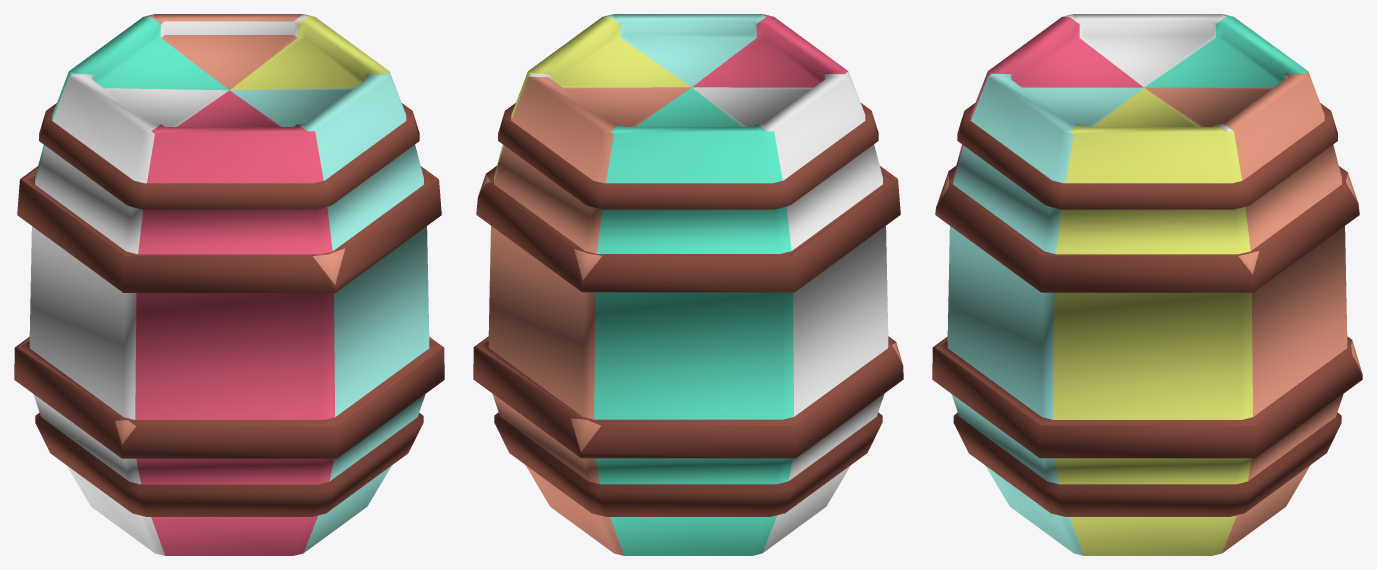
The model's file is barrel marshmallow 1combi.fbx.
The picture shows the model from 3 angles, left to right: view 1: azimuth 30°, elevation 25°; view 2: azimuth 150°, elevation 25°; view 3: azimuth 270°, elevation 25°; orthographic projection.
Parts seen in each view (by area): view 1: Cylinder; view 2: Cylinder; view 3: Cylinder.
Boxes of the visible parts, x1,y1,x2,y2 form: Cylinder: (14,14,444,555); Cylinder: (473,14,903,555); Cylinder: (932,14,1362,555).
Size of the model in its own units: 2.35 by 2.99 by 2.72.
